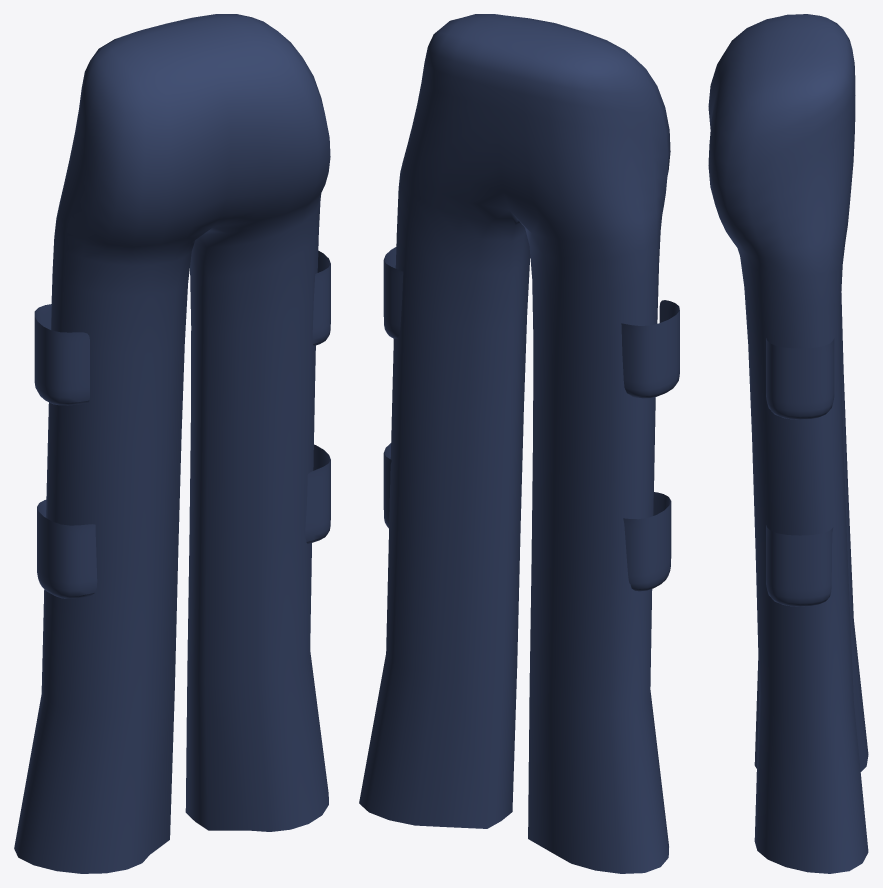
Rendered from cargopants.fbx.
3 renders of one model, left to right at view 1: azimuth 30°, elevation 25°; view 2: azimuth 150°, elevation 25°; view 3: azimuth 270°, elevation 25°, orthographic. The views are drawn at different scales.
Visible parts, largest first — view 1: cargos; view 2: cargos; view 3: cargos.
Boxes of the visible parts, x1,y1,x2,y2 form: cargos: [14, 14, 330, 873]; cargos: [359, 14, 679, 873]; cargos: [708, 14, 868, 873].
Bounding box in the file's own units: 183 × 462 × 87.81.
